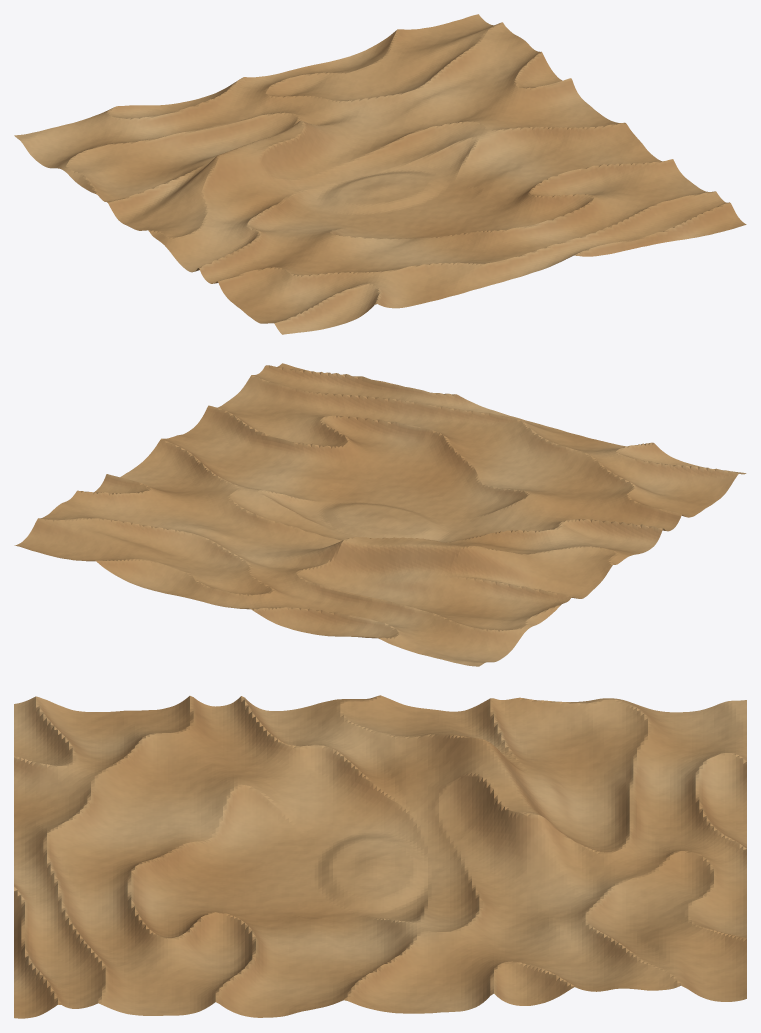
The model's file is terrain.glb.
The picture shows the model from 3 angles, top to bottom: view 1: azimuth 30°, elevation 25°; view 2: azimuth 150°, elevation 25°; view 3: azimuth 270°, elevation 25°; orthographic projection. The views are drawn at different scales.
Parts seen in each view (by area): view 1: Terrain; view 2: Terrain; view 3: Terrain.
Part boxes in pixels (x1,y1,x2,y2): Terrain: [14, 14, 746, 334]; Terrain: [14, 363, 746, 666]; Terrain: [14, 695, 746, 1018].
Size of the model in its own units: 400 by 30.93 by 400.
